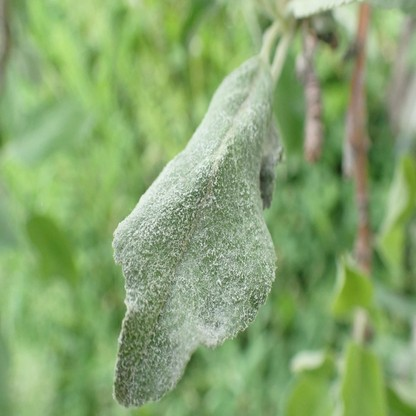powdery_mildew: (112, 59, 285, 408)
